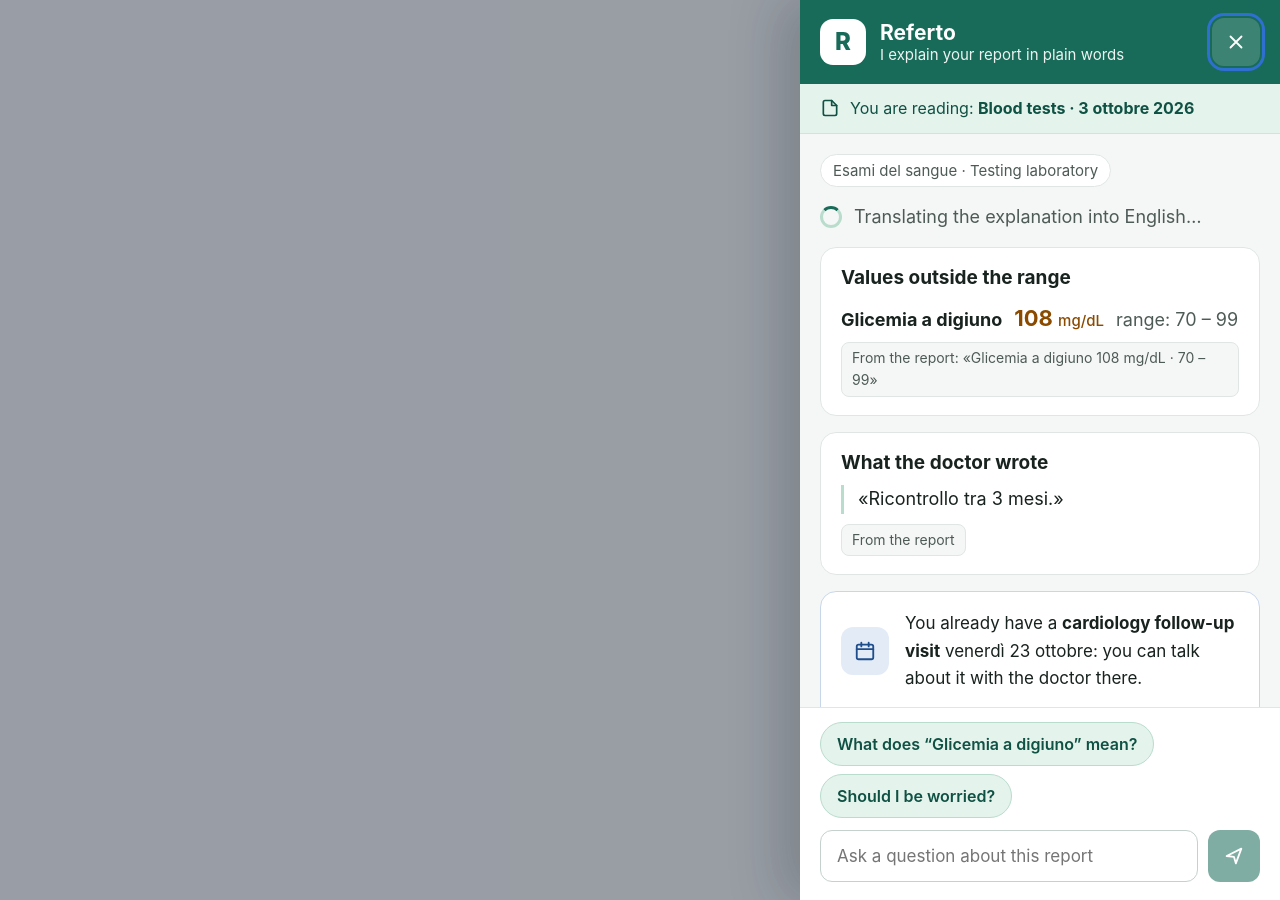
Scenario: WidgetReferto › in inglese › la domanda pronta si vede in inglese ma va al Mother agent in italiano, e la risposta si traduce
Click the button "Should I be worried?" at (916, 796), box [820,774,1012,818]
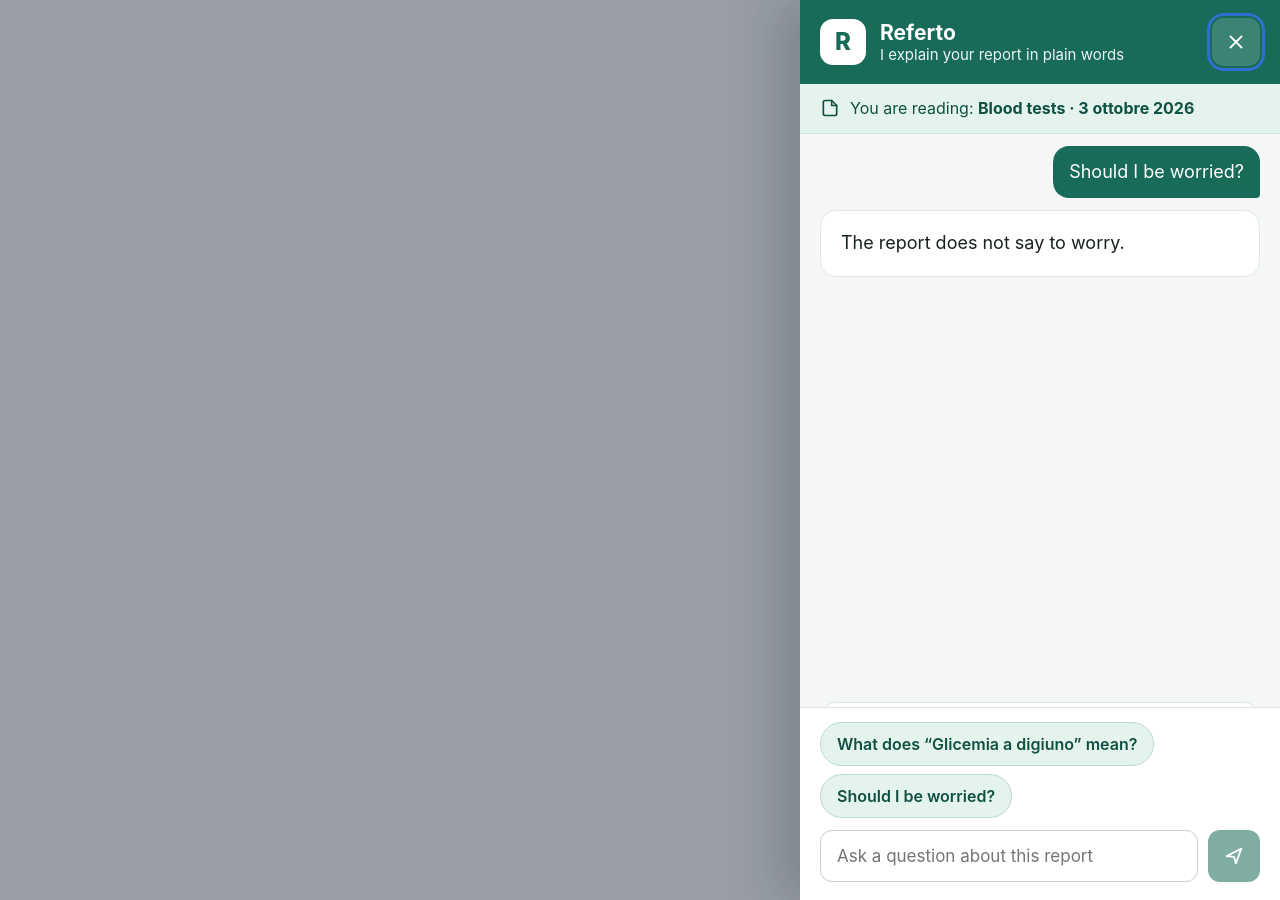
Check: the text "The report does not say to worry." is shown, box [841,232,1125,253]
Check: the text "Should I be worried?" is shown, box [1053,146,1260,198]
